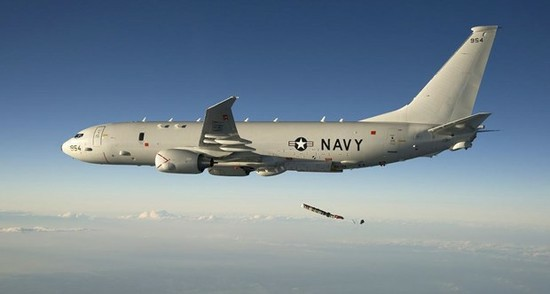maybay_khongnguoilai: (56, 27, 499, 176)
